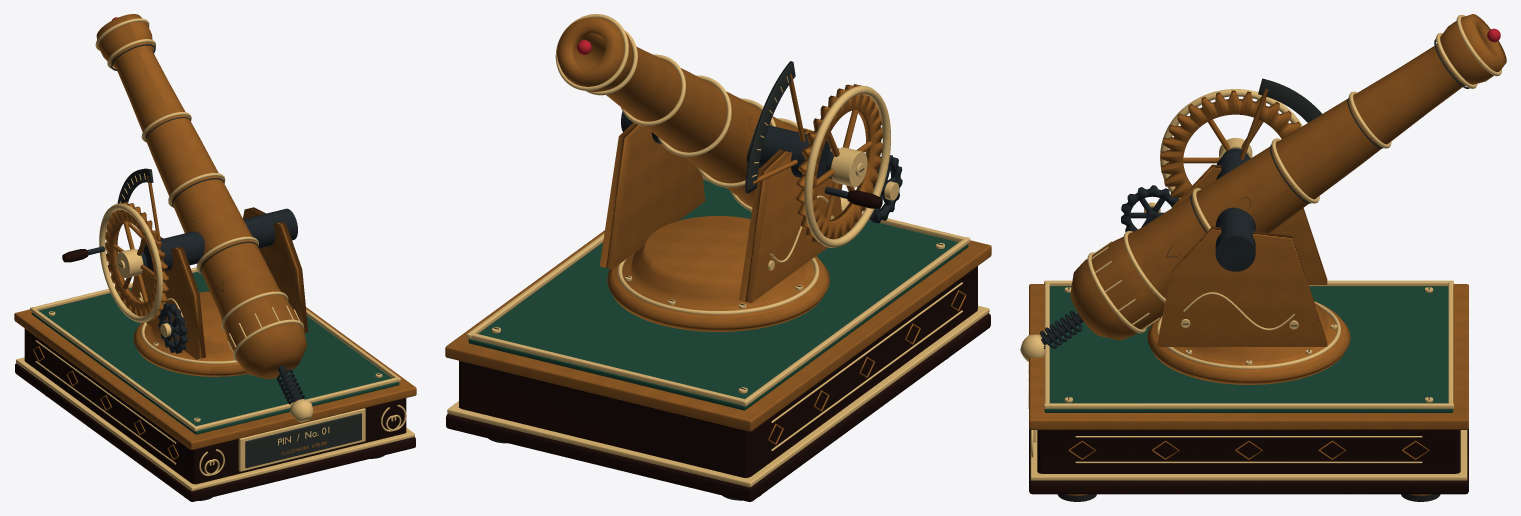
Rendered from PinLauncher.fbx.
3 renders of one model, left to right at view 1: azimuth 30°, elevation 25°; view 2: azimuth 150°, elevation 25°; view 3: azimuth 270°, elevation 25°, orthographic. The views are drawn at different scales.
Visible parts, largest first — view 1: Barrel_TaperedBrassShell, Enamel_Deck, Mahogany_Platform, Plinth_TopBead, Plinth_LowerOgee, Turret_TurnedSocket, MakerPlaque_Enamel, CarriageCheek_-1, Brass_Plinth, ElevationGear_ToothedRim, CarriageCheek_1, Elevation_Trunnion (+10 smaller); view 2: Enamel_Deck, Mahogany_Platform, Turret_TurnedSocket, Barrel_TaperedBrassShell, Plinth_TopBead, CarriageCheek_1, Plinth_LowerOgee, CarriageCheek_-1, Brass_Plinth, ElevationGear_ToothedRim, Handwheel_PolishedRim, DeckEdge_X_-0.087 (+13 smaller); view 3: Barrel_TaperedBrassShell, Enamel_Deck, Mahogany_Platform, CarriageCheek_1, Plinth_TopBead, Plinth_LowerOgee, Turret_TurnedSocket, ElevationGear_ToothedRim, Brass_Plinth, Elevation_Trunnion, DeckEdge_X_0.087, CarriageCheek_-1 (+10 smaller).
Boxes of the visible parts, bbox=[...] form: Barrel_TaperedBrassShell: bbox=[96, 14, 306, 379]; Enamel_Deck: bbox=[31, 272, 399, 434]; Mahogany_Platform: bbox=[24, 328, 406, 484]; Plinth_TopBead: bbox=[14, 307, 416, 450]; Plinth_LowerOgee: bbox=[15, 363, 415, 501]; Turret_TurnedSocket: bbox=[133, 291, 247, 376]; MakerPlaque_Enamel: bbox=[245, 413, 361, 468]; CarriageCheek_-1: bbox=[131, 237, 205, 359]; Brass_Plinth: bbox=[16, 357, 414, 491]; ElevationGear_ToothedRim: bbox=[105, 202, 168, 320]; CarriageCheek_1: bbox=[243, 207, 308, 332]; Elevation_Trunnion: bbox=[143, 208, 297, 271]; Enamel_Deck: bbox=[468, 180, 968, 410]; Mahogany_Platform: bbox=[459, 266, 977, 477]; Turret_TurnedSocket: bbox=[607, 216, 829, 331]; Barrel_TaperedBrassShell: bbox=[557, 17, 842, 211]; Plinth_TopBead: bbox=[445, 230, 991, 431]; CarriageCheek_1: bbox=[599, 122, 705, 269]; Plinth_LowerOgee: bbox=[446, 313, 990, 501]; CarriageCheek_-1: bbox=[739, 128, 841, 303]; Brass_Plinth: bbox=[447, 305, 989, 487]; ElevationGear_ToothedRim: bbox=[796, 84, 882, 245]; Handwheel_PolishedRim: bbox=[804, 85, 890, 247]; DeckEdge_X_-0.087: bbox=[742, 237, 970, 406]; Barrel_TaperedBrassShell: bbox=[1070, 14, 1506, 340]; Enamel_Deck: bbox=[1044, 286, 1453, 412]; Mahogany_Platform: bbox=[1037, 430, 1460, 473]; CarriageCheek_1: bbox=[1157, 226, 1327, 346]; Plinth_TopBead: bbox=[1029, 284, 1468, 429]; Plinth_LowerOgee: bbox=[1029, 428, 1468, 494]; Turret_TurnedSocket: bbox=[1147, 301, 1350, 384]; ElevationGear_ToothedRim: bbox=[1160, 90, 1300, 197]; Brass_Plinth: bbox=[1030, 430, 1467, 480]; Elevation_Trunnion: bbox=[1215, 152, 1255, 271]; DeckEdge_X_0.087: bbox=[1044, 403, 1453, 408]; CarriageCheek_-1: bbox=[1172, 164, 1327, 284].
Bounding box in the file's own units: 0.213 × 0.2807 × 0.2918.
